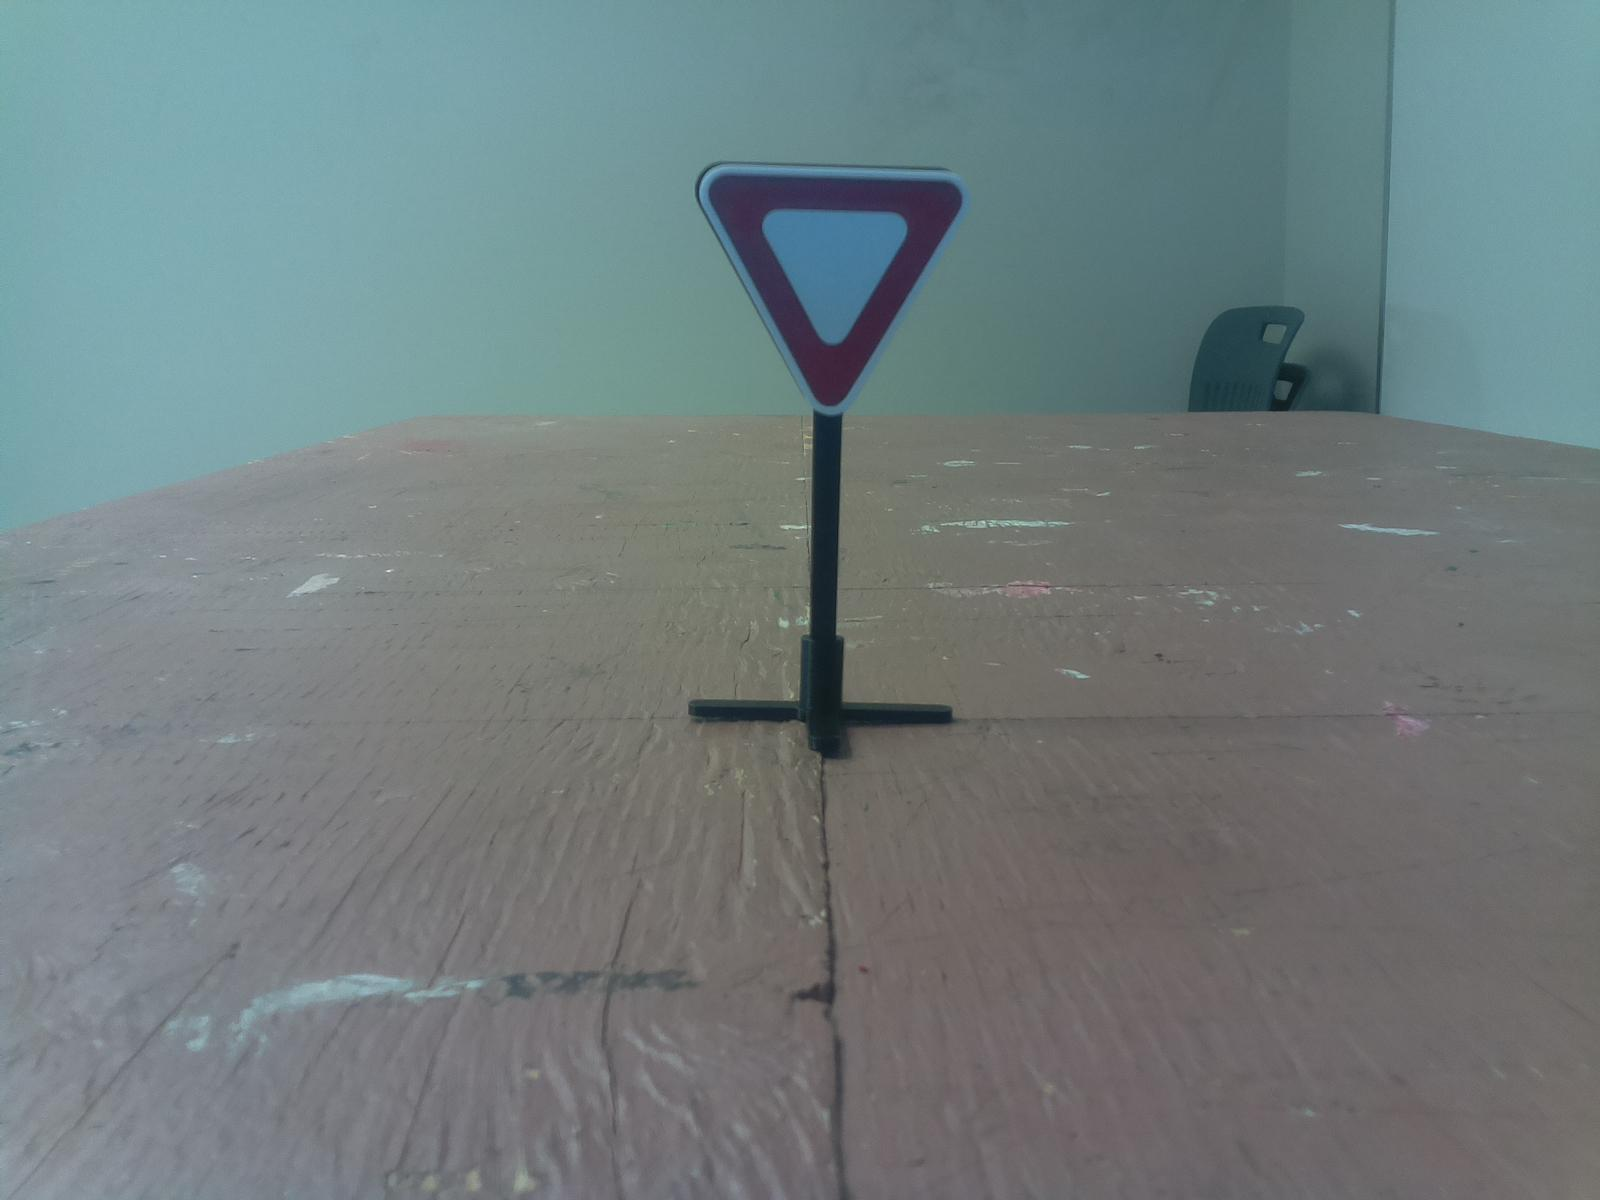sign_yield: (659, 158, 985, 432)
